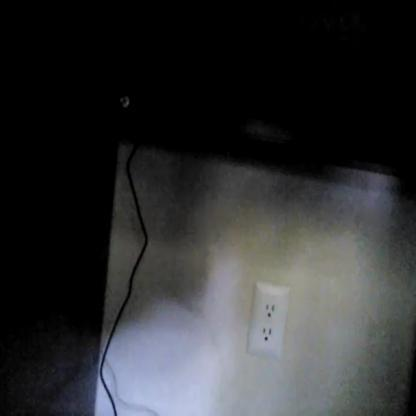OUTLET: (247, 282, 287, 359)
